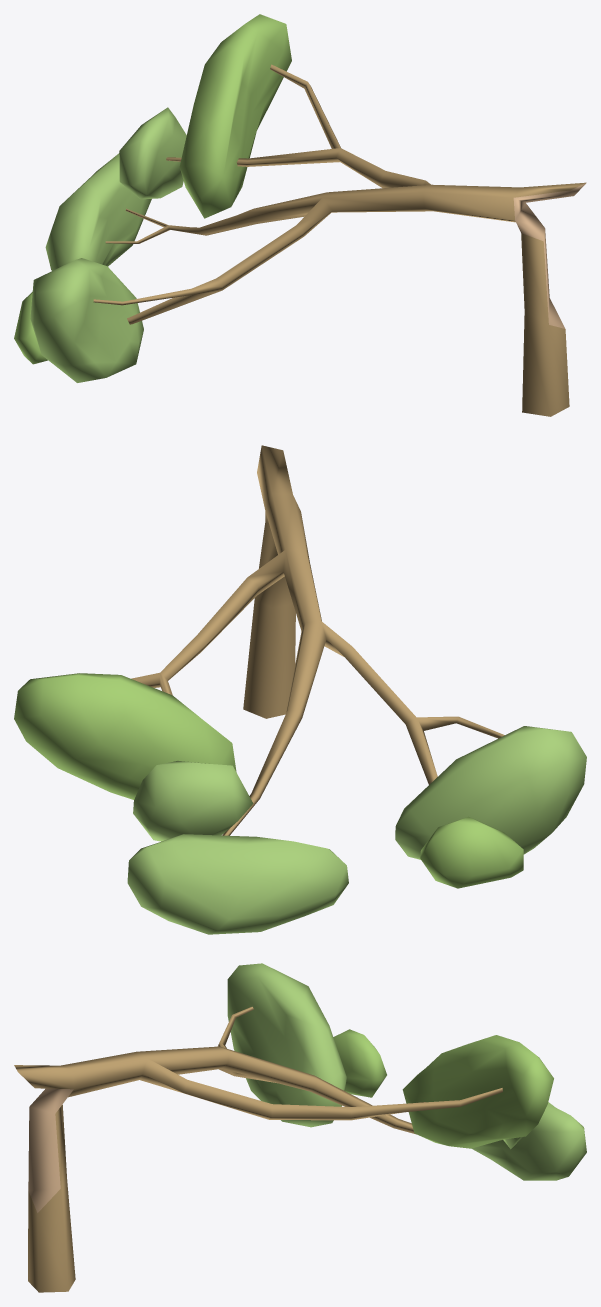
Rendered from acacia-tree-crk-l-04.glb.
The picture shows the model from 3 angles, top to bottom: view 1: azimuth 30°, elevation 25°; view 2: azimuth 150°, elevation 25°; view 3: azimuth 270°, elevation 25°; orthographic projection. The views are drawn at different scales.
Visible parts, largest first — view 1: Acacia_Tree_crk_l_04; view 2: Acacia_Tree_crk_l_04; view 3: Acacia_Tree_crk_l_04.
Part boxes in pixels (x1,y1,x2,y2): Acacia_Tree_crk_l_04: [14, 14, 586, 416]; Acacia_Tree_crk_l_04: [14, 445, 586, 934]; Acacia_Tree_crk_l_04: [14, 963, 586, 1292].
Size of the model in its own units: 6.88 by 3.58 by 8.32.
1 material, 1 textured.
